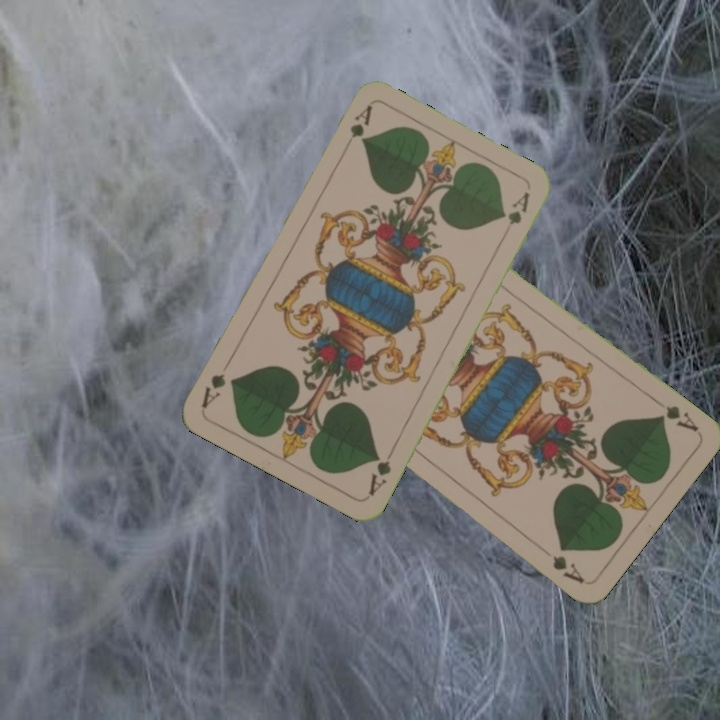GA: (650, 395, 701, 435), (364, 443, 398, 499), (346, 101, 375, 141)
